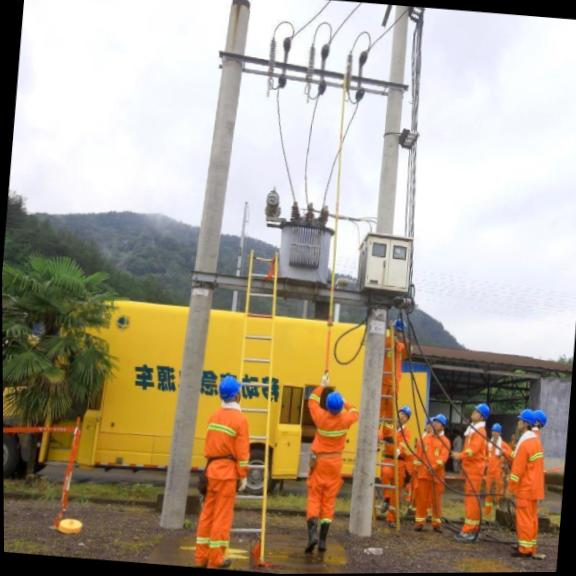safety_vest: (196, 403, 256, 492), (304, 410, 362, 482), (505, 429, 551, 515), (411, 430, 450, 497)
